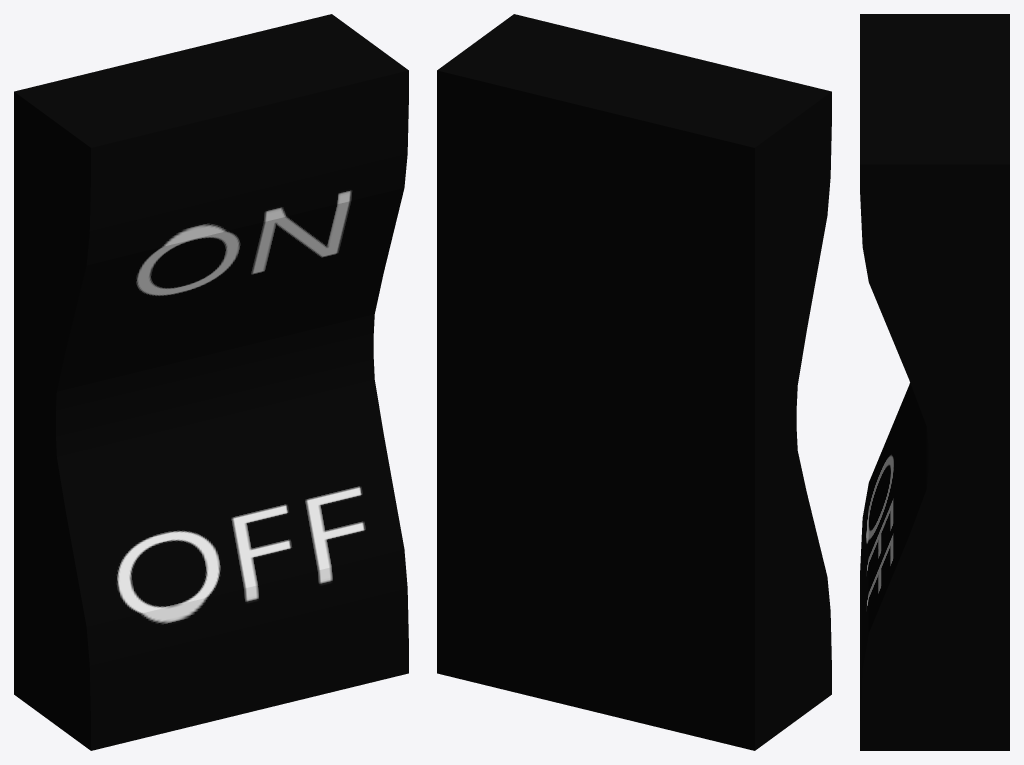
The model's file is Lightswitch_button.fbx.
The picture shows the model from 3 angles, left to right: view 1: azimuth 30°, elevation 25°; view 2: azimuth 150°, elevation 25°; view 3: azimuth 270°, elevation 25°; orthographic projection. The views are drawn at different scales.
Parts seen in each view (by area): view 1: Lightswitch_button; view 2: Lightswitch_button; view 3: Lightswitch_button.
Boxes of the visible parts, left/top/right/bottom form: Lightswitch_button: left=14, top=14, right=408, bottom=750; Lightswitch_button: left=437, top=14, right=831, bottom=750; Lightswitch_button: left=860, top=14, right=1009, bottom=750.
Size of the model in its own units: 19.9 by 36.07 by 8.36.
